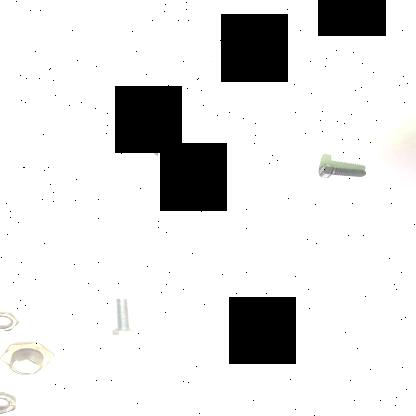Bolts: (0, 338, 61, 375), (100, 299, 144, 340), (312, 160, 368, 180), (143, 139, 158, 169)
NUTS: (0, 299, 27, 338), (0, 381, 21, 415)
